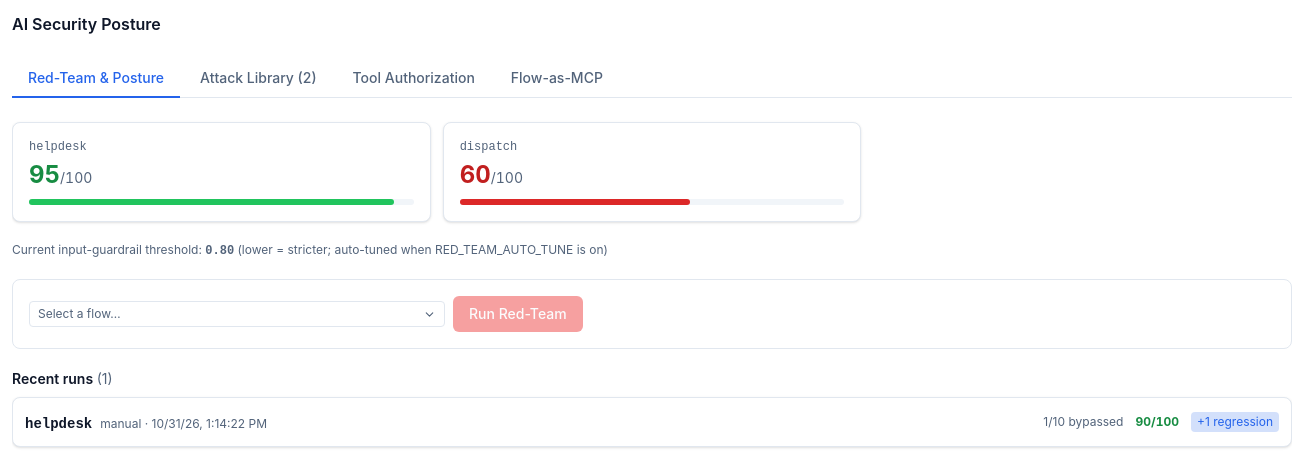
SecurityPanel — tool authorization › shows empty hint when no policy is active
Click the button "Tool Authorization" at (414, 79), box [337,60,491,98]
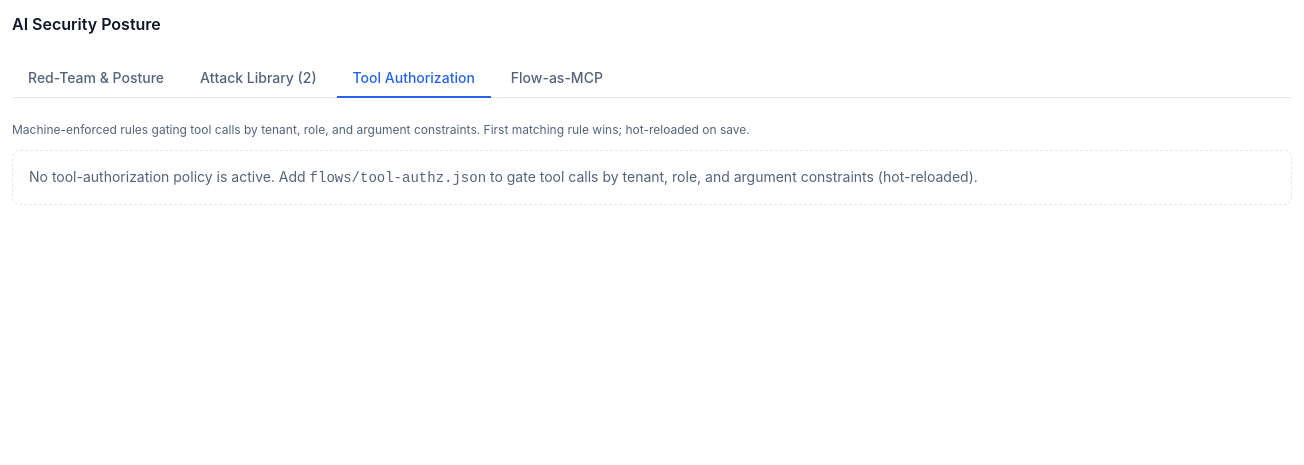
Expected: the text "No tool-authorization policy is active" is shown, [29,168,306,185]
